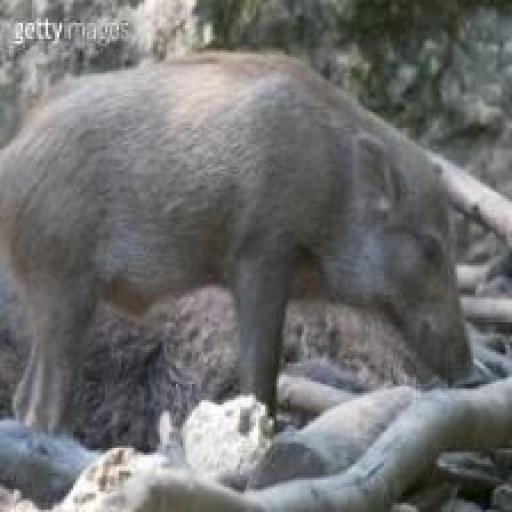Pig: (0, 41, 485, 448)
